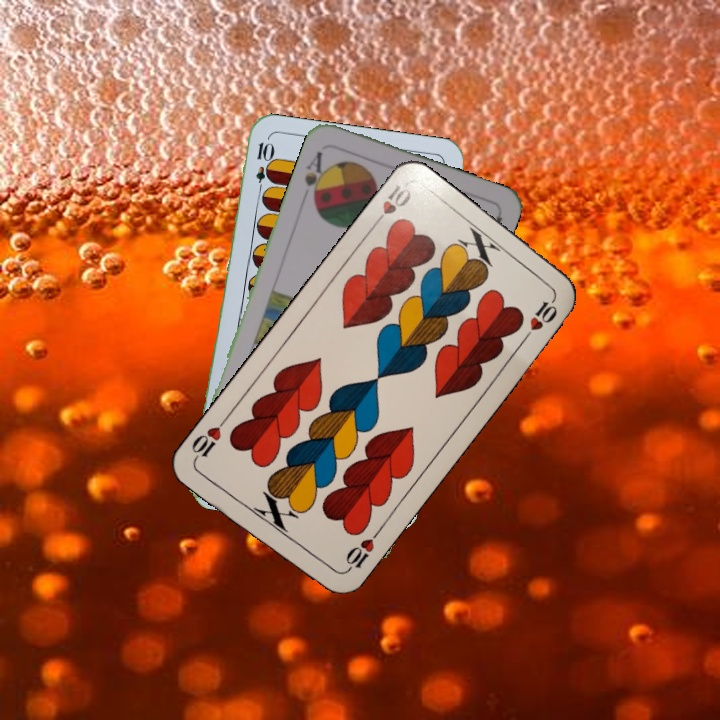E10: (251, 138, 273, 197)
H10: (367, 180, 416, 231), (340, 526, 383, 576)
SA: (300, 147, 331, 205)
